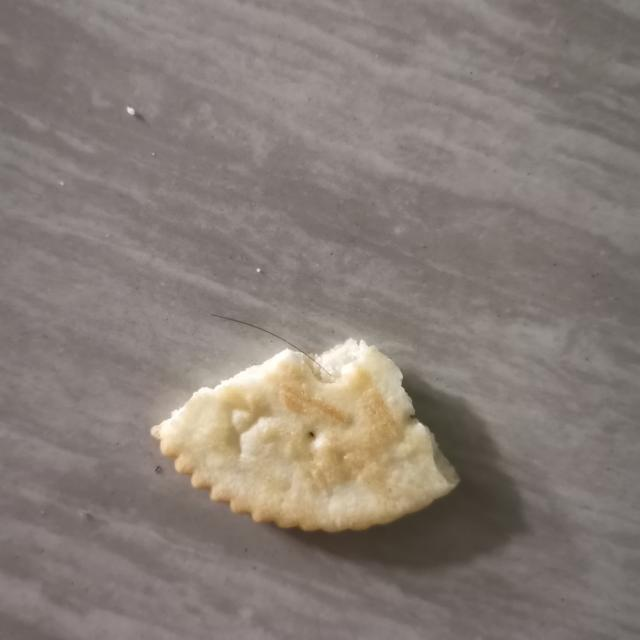Broken: (149, 336, 460, 534)
